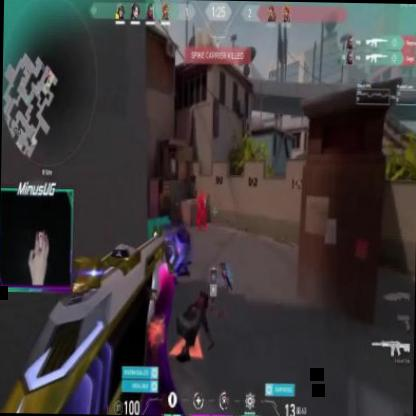enemy: (195, 188, 207, 230)
enemy_head: (200, 186, 203, 196)
